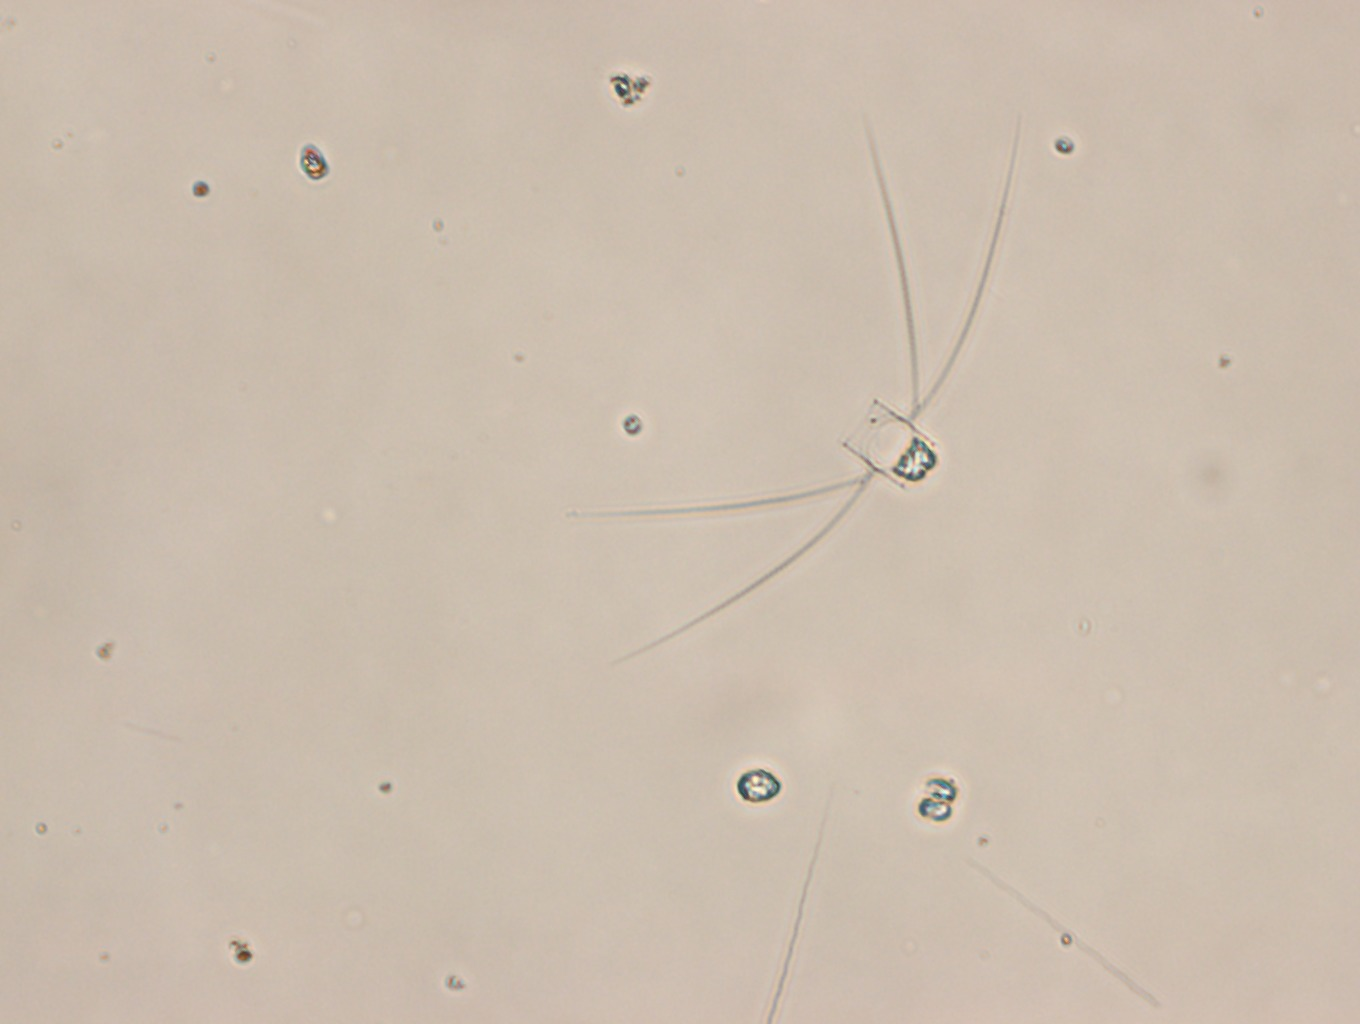chaetoceros: (560, 110, 1022, 667)
